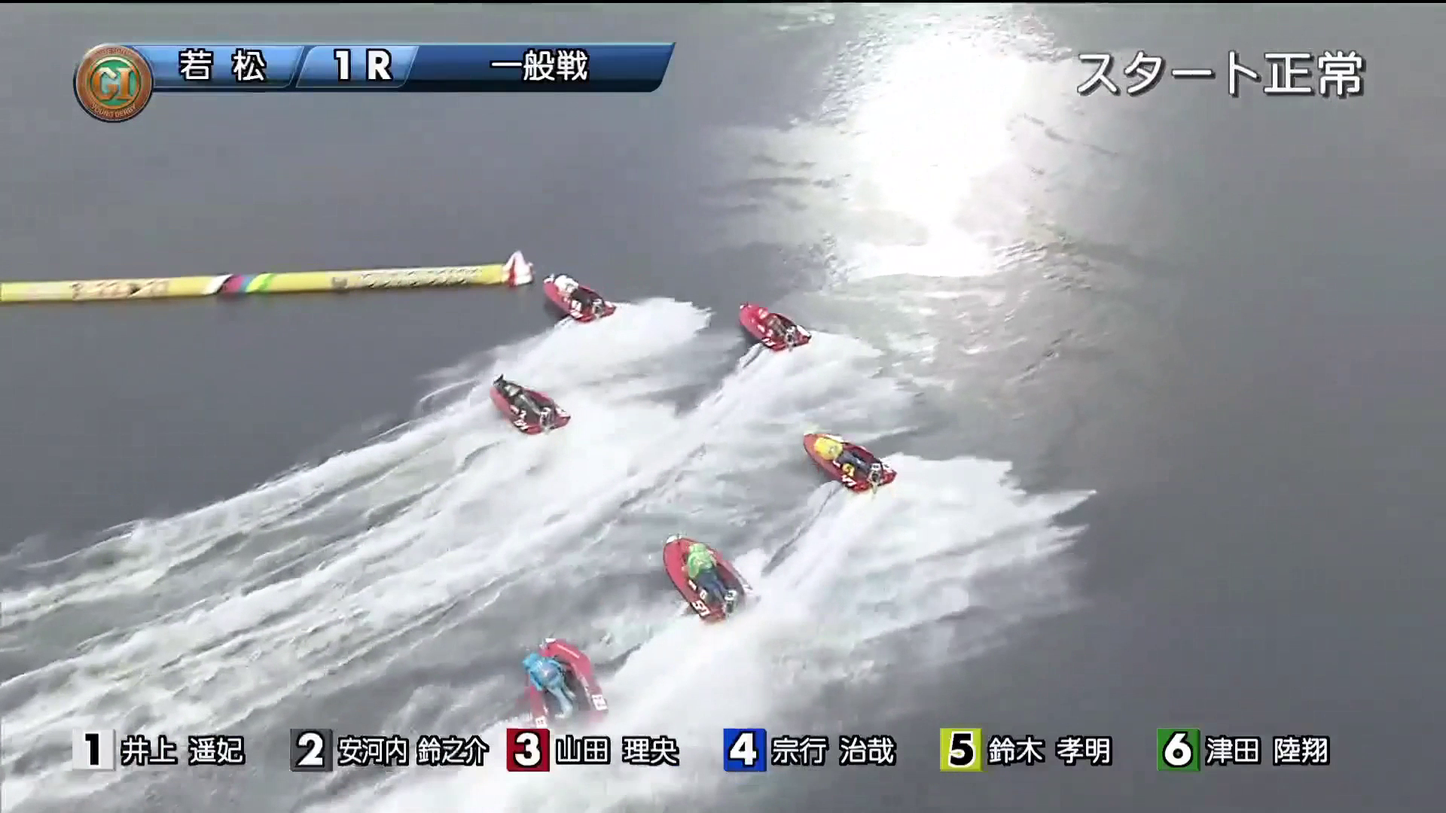１号艇: (547, 274, 617, 327)
２号艇: (480, 374, 609, 434)
３号艇: (733, 302, 831, 349)
４号艇: (680, 536, 814, 601)
５号艇: (511, 658, 634, 713)
６号艇: (810, 433, 910, 490)
